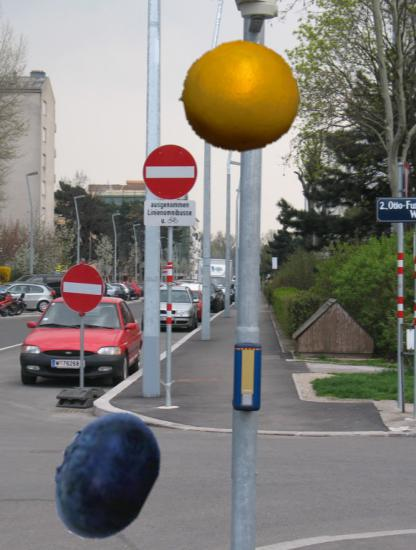Blueberry: (38, 408, 173, 543)
Grapefruit: (179, 37, 299, 157)
